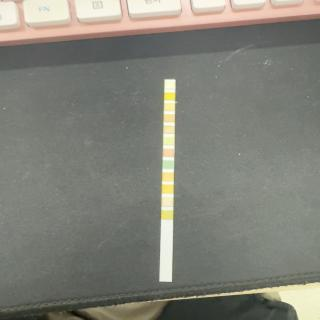mark: (162, 172, 174, 182), (162, 210, 173, 220), (162, 185, 174, 194), (163, 160, 174, 169), (163, 149, 175, 157), (164, 81, 176, 89), (162, 198, 173, 206), (164, 137, 175, 145), (164, 114, 175, 122), (164, 103, 174, 111), (164, 126, 175, 133), (164, 93, 175, 100)
